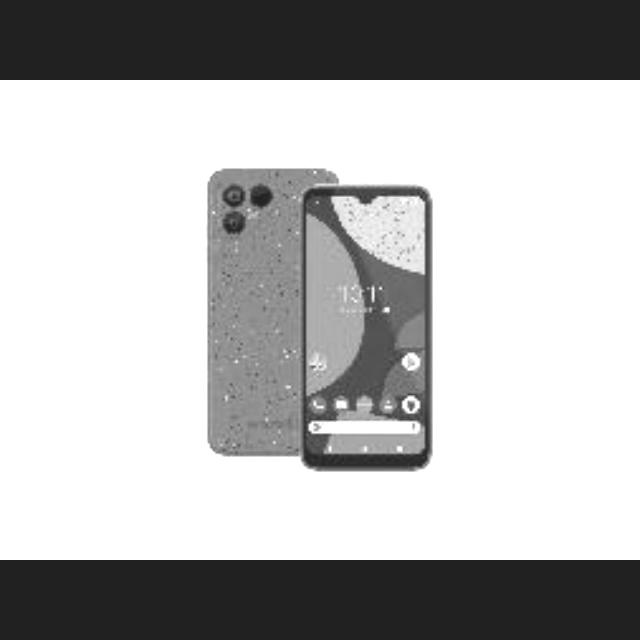fake: (289, 174, 439, 464)
